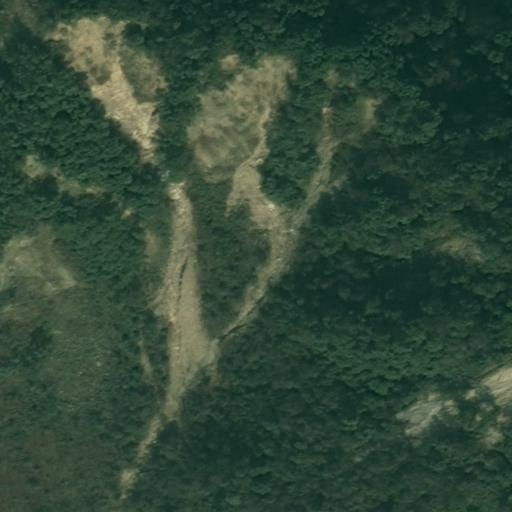landslide: (49, 14, 332, 437)
